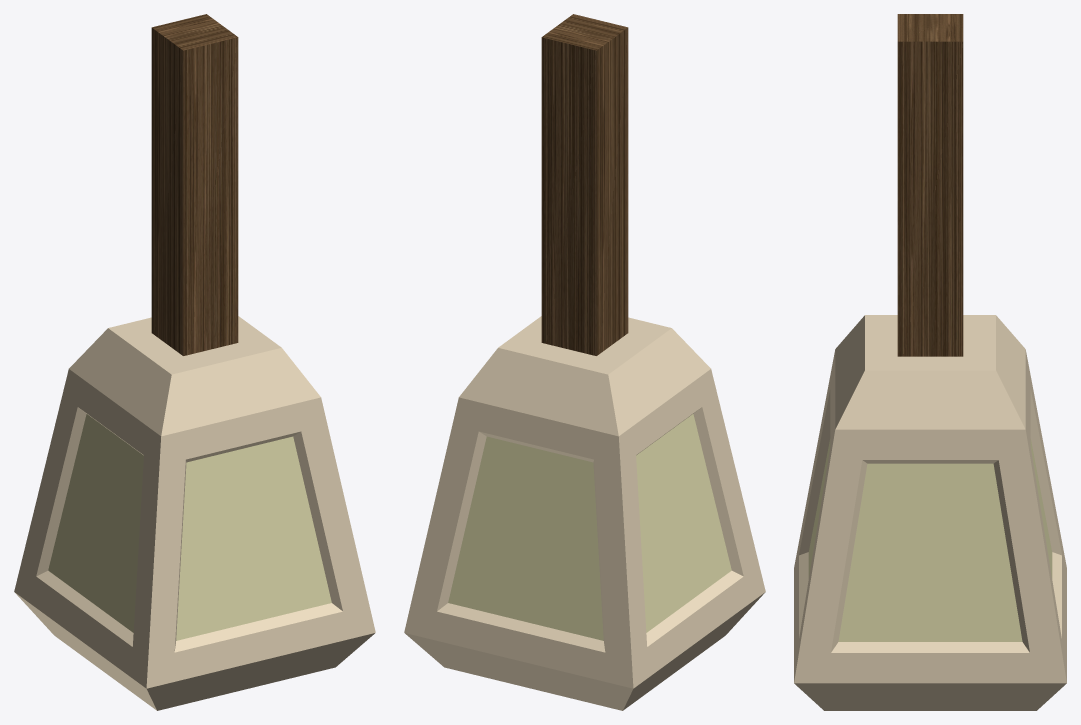
Rendered from Lamp 02.glb.
3 renders of one model, left to right at view 1: azimuth 30°, elevation 25°; view 2: azimuth 150°, elevation 25°; view 3: azimuth 270°, elevation 25°, orthographic. The views are drawn at different scales.
Visible parts, largest first — view 1: Lamp_02; view 2: Lamp_02; view 3: Lamp_02.
Part boxes in pixels (box(x1,y1,x2,y2)): Lamp_02: box(14, 14, 375, 710); Lamp_02: box(404, 14, 765, 710); Lamp_02: box(794, 14, 1066, 710).
Bounding box in the file's own units: 0.1434 × 0.3701 × 0.1434.
3 materials, 1 textured.
